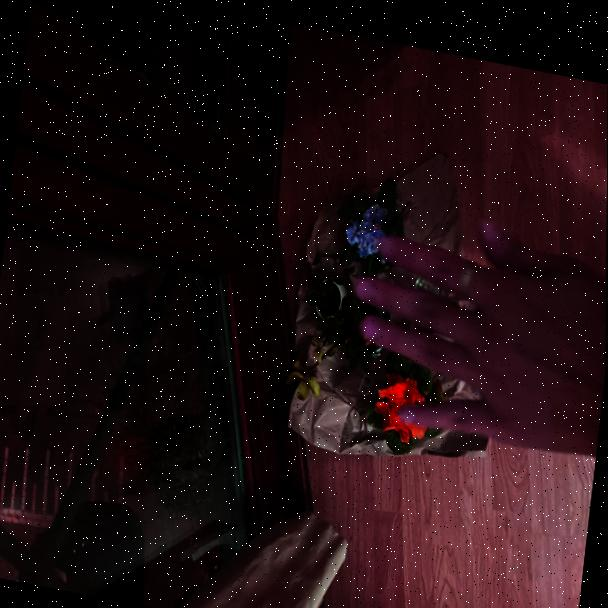five: (335, 168, 607, 466)
